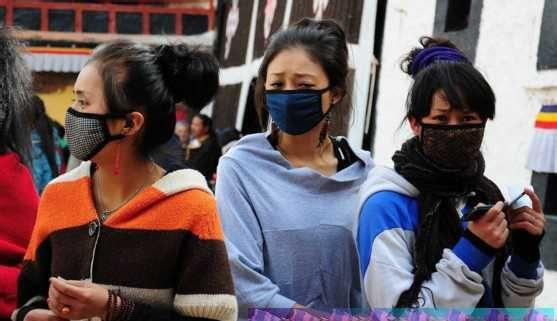NONE: (192, 120, 205, 137), (178, 129, 192, 142)
OK: (65, 82, 144, 162), (266, 61, 332, 133), (419, 103, 486, 167)
